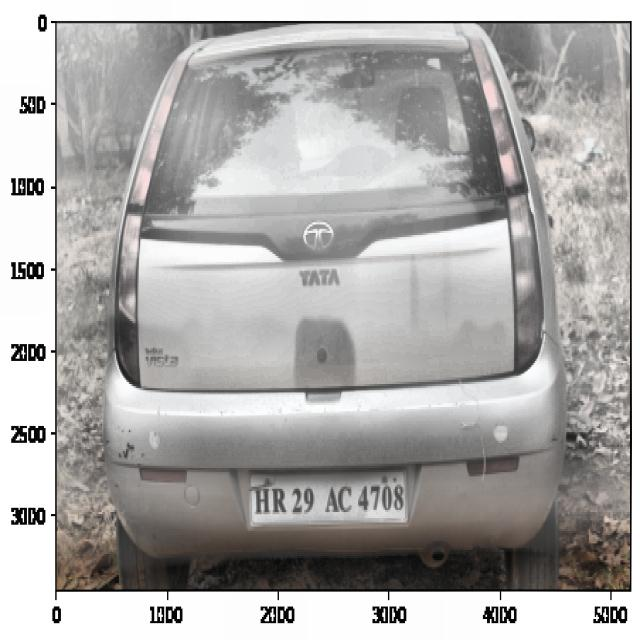license_plate: (248, 469, 409, 525)
